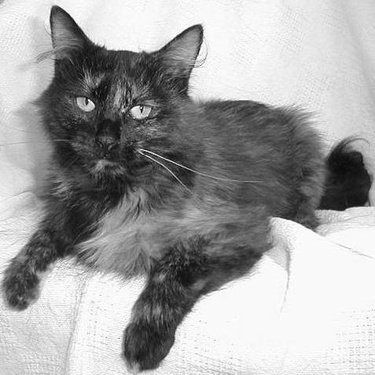cat: (2, 1, 347, 346)
